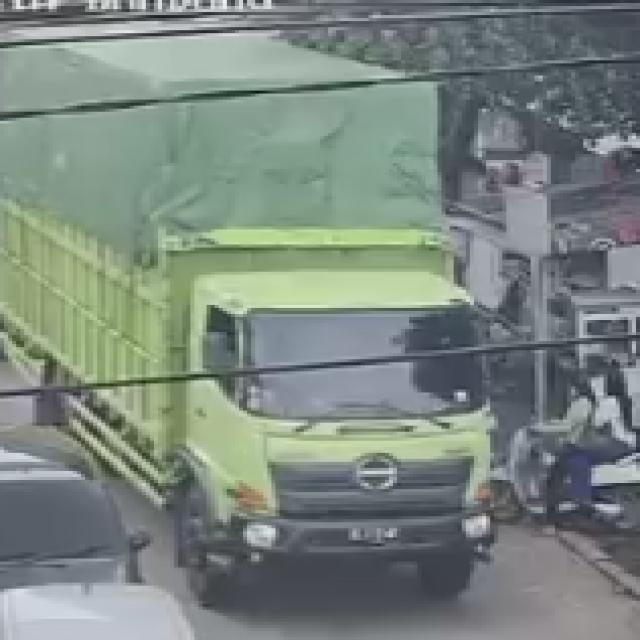Truck: (127, 38, 536, 600)
